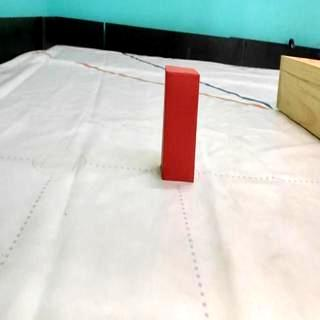redbox: (160, 66, 200, 182)
